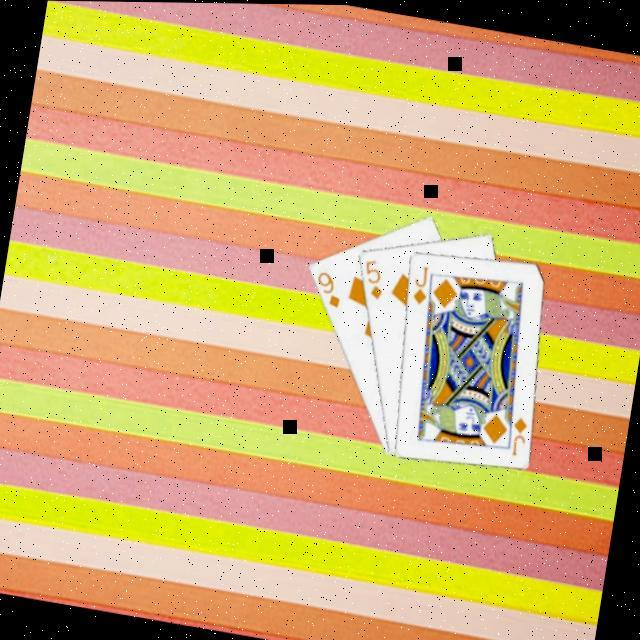5D: (358, 254, 390, 302)
9D: (310, 265, 348, 310)
JD: (506, 410, 532, 457), (409, 260, 435, 306)
